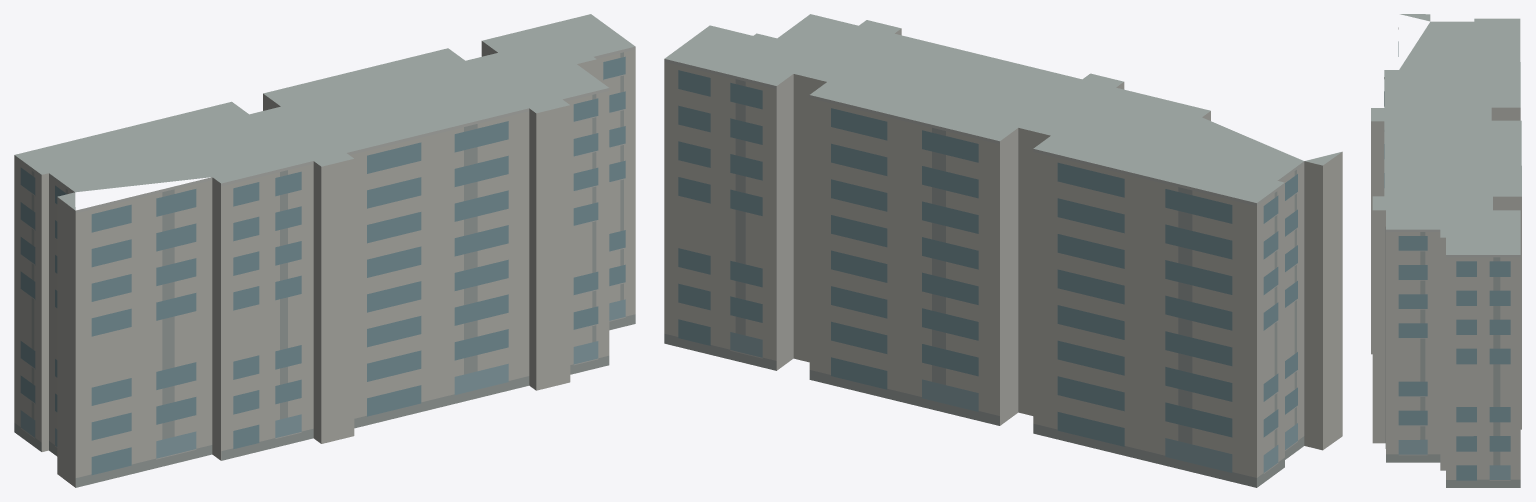
The model's file is survey-upis-32874568.glb.
3 views of the same model, side by side, from view 1: azimuth 30°, elevation 25°; view 2: azimuth 150°, elevation 25°; view 3: azimuth 270°, elevation 25° (orthographic). The views are drawn at different scales.
Parts seen in each view (by area): view 1: survey-upis-32874568.tmp; view 2: survey-upis-32874568.tmp; view 3: survey-upis-32874568.tmp.
Boxes of the visible parts, left/top/right/bottom form: survey-upis-32874568.tmp: left=14, top=14, right=635, bottom=487; survey-upis-32874568.tmp: left=664, top=14, right=1342, bottom=487; survey-upis-32874568.tmp: left=1371, top=14, right=1521, bottom=487.
Size of the model in its own units: 52.13 by 23.49 by 13.8.
